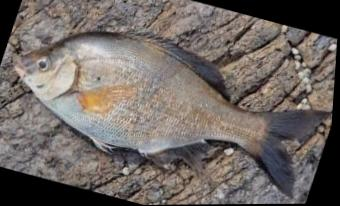fish: (13, 32, 332, 197)
